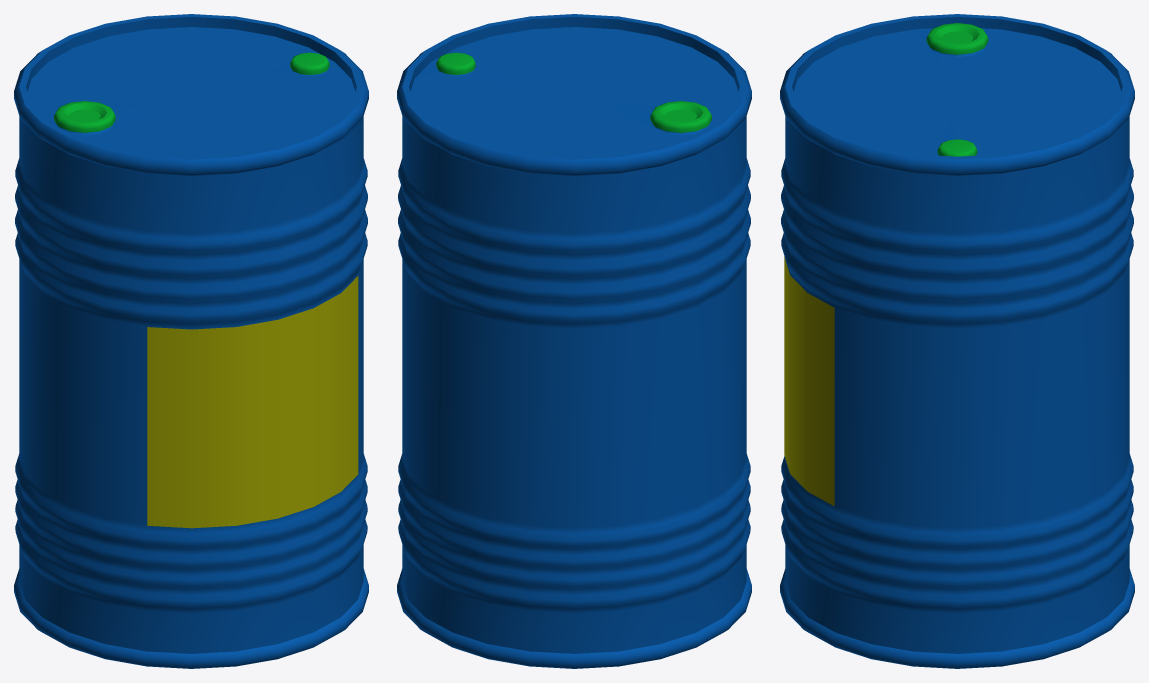
The model's file is SM_barrel.fbx.
3 views of the same model, side by side, from view 1: azimuth 30°, elevation 25°; view 2: azimuth 150°, elevation 25°; view 3: azimuth 270°, elevation 25° (orthographic).
Parts seen in each view (by area): view 1: SM_barrel; view 2: SM_barrel; view 3: SM_barrel.
Part boxes in pixels (bbox=[...]): SM_barrel: bbox=[14, 14, 368, 668]; SM_barrel: bbox=[397, 14, 751, 668]; SM_barrel: bbox=[780, 14, 1134, 668].
Size of the model in its own units: 0.5674 by 0.8995 by 0.5674.
